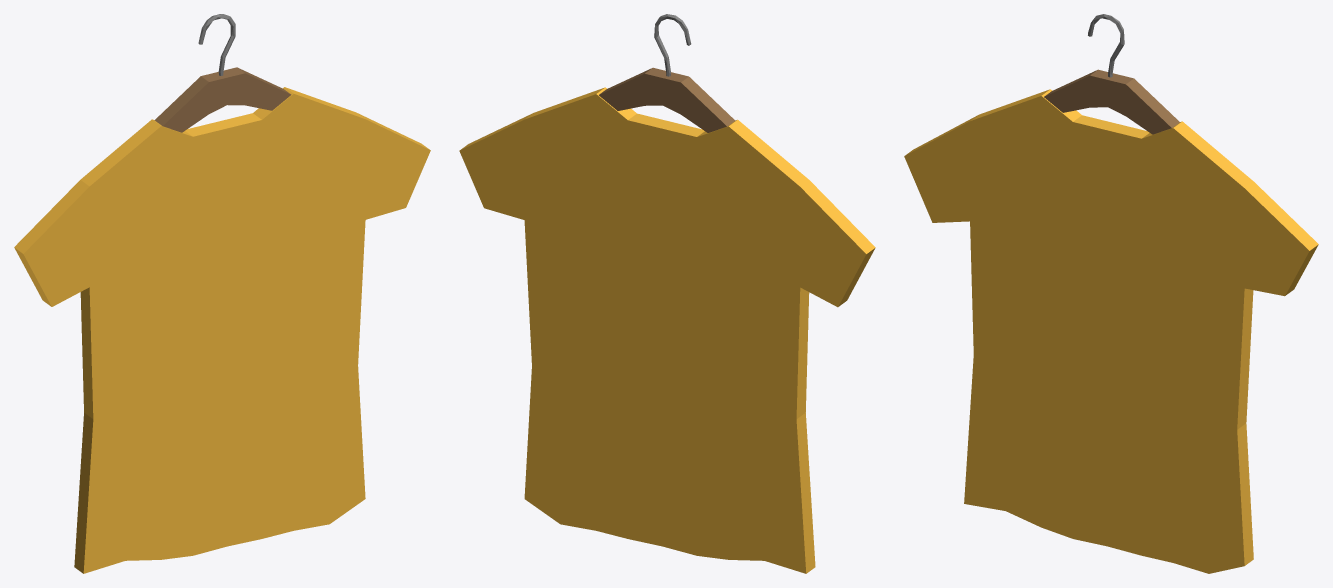
Rendered from Clothes6_C3.fbx.
The picture shows the model from 3 angles, left to right: view 1: azimuth 30°, elevation 25°; view 2: azimuth 150°, elevation 25°; view 3: azimuth 330°, elevation 25°; orthographic projection.
Parts seen in each view (by area): view 1: Clothes6_C3; view 2: Clothes6_C3; view 3: Clothes6_C3.
Part boxes in pixels (x1=…): Clothes6_C3: x1=14, y1=14, x2=430, y2=573; Clothes6_C3: x1=459, y1=14, x2=875, y2=573; Clothes6_C3: x1=904, y1=14, x2=1318, y2=573.
Bounding box in the file's own units: 50.52 × 63.08 × 1.99.
